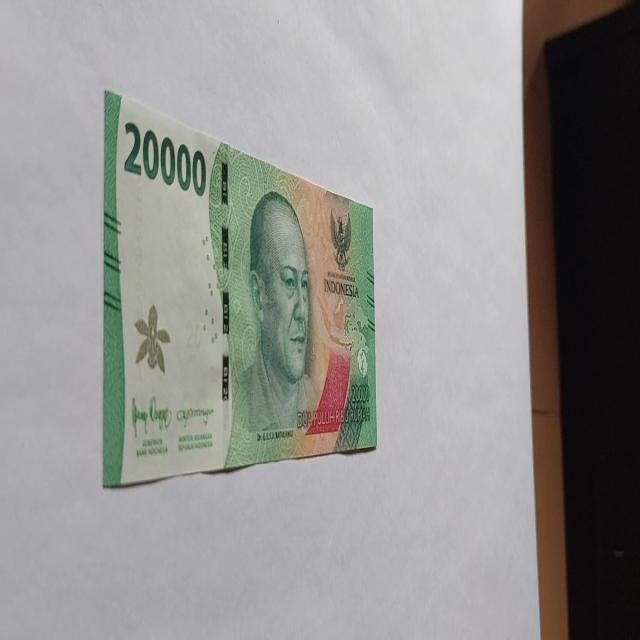dua puluh ribu rupiah: (101, 89, 377, 488), (222, 188, 352, 468)
